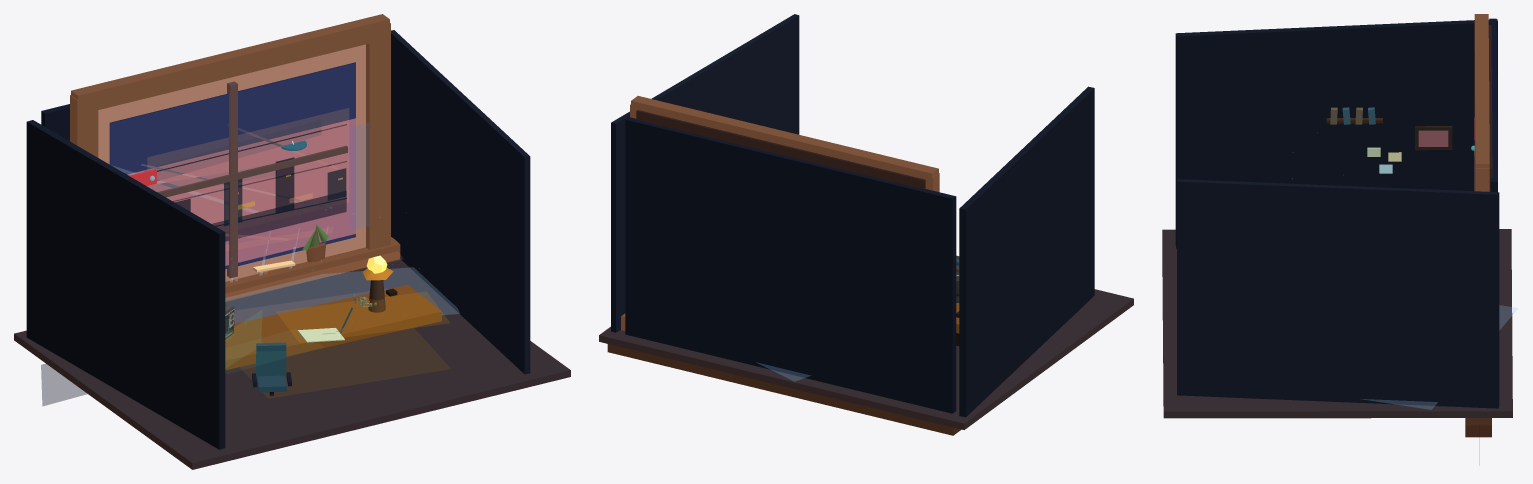
Rendered from exported-window-side-room.glb.
3 renders of one model, left to right at view 1: azimuth 30°, elevation 25°; view 2: azimuth 150°, elevation 25°; view 3: azimuth 270°, elevation 25°, orthographic. The views are drawn at different scales.
Parts seen in each view (by area): view 1: LeftWall, Floor, RightWall, WindowOutsideWorld, WindowTopFrame, WindowGlassBacking, Group_476, DeskTop, WindowRightFrame, WindowSillInner, WindowCenterMullion, DeskChair (+10 smaller); view 2: BackWall, LeftWall, RightWall, Floor, WindowTopFrame, WindowOuterFrameBacking, WindowSillOuter; view 3: RightWall, LeftWall, Floor, WindowTopFrame, BackWall, Group_304, Group_311, Group_476, WindowOuterFrameBacking, WindowSillOuter, Group_307.
Boxes of the visible parts, bbox=[...] form: LeftWall: bbox=[26, 120, 225, 449]; Floor: bbox=[14, 259, 570, 469]; RightWall: bbox=[391, 30, 530, 374]; WindowOutsideWorld: bbox=[109, 62, 355, 269]; WindowTopFrame: bbox=[71, 14, 389, 114]; WindowGlassBacking: bbox=[98, 44, 365, 281]; Group_476: bbox=[225, 123, 459, 367]; DeskTop: bbox=[225, 284, 441, 370]; WindowRightFrame: bbox=[366, 23, 390, 249]; WindowSillInner: bbox=[225, 237, 400, 301]; WindowCenterMullion: bbox=[227, 81, 237, 278]; DeskChair: bbox=[252, 342, 291, 395]; BackWall: bbox=[625, 117, 956, 413]; LeftWall: bbox=[959, 86, 1094, 417]; RightWall: bbox=[611, 14, 799, 332]; Floor: bbox=[599, 255, 1133, 429]; WindowTopFrame: bbox=[631, 96, 938, 188]; WindowOuterFrameBacking: bbox=[636, 110, 925, 189]; WindowSillOuter: bbox=[607, 344, 961, 435]; RightWall: bbox=[1177, 179, 1499, 408]; LeftWall: bbox=[1175, 19, 1497, 248]; Floor: bbox=[1162, 229, 1512, 418]; WindowTopFrame: bbox=[1474, 14, 1489, 168]; BackWall: bbox=[1489, 18, 1497, 192]; Group_304: bbox=[1415, 126, 1452, 150]; Group_311: bbox=[1326, 107, 1382, 124]; Group_476: bbox=[1363, 305, 1517, 409]; WindowOuterFrameBacking: bbox=[1488, 25, 1492, 191]; WindowSillOuter: bbox=[1465, 418, 1491, 437]; Group_307: bbox=[1367, 147, 1401, 173].
Size of what is drawn, in the model's own units: 6.01 by 4.44 by 4.8.
178 materials, 1 textured.
